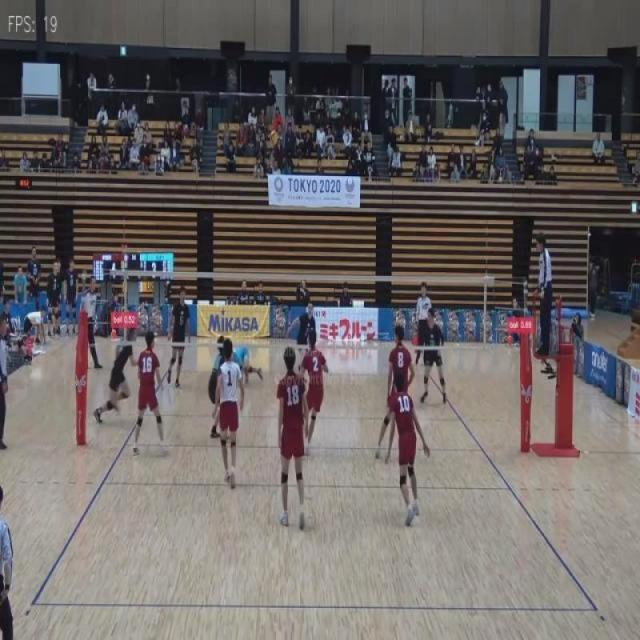volleyball: (270, 130, 278, 144)
